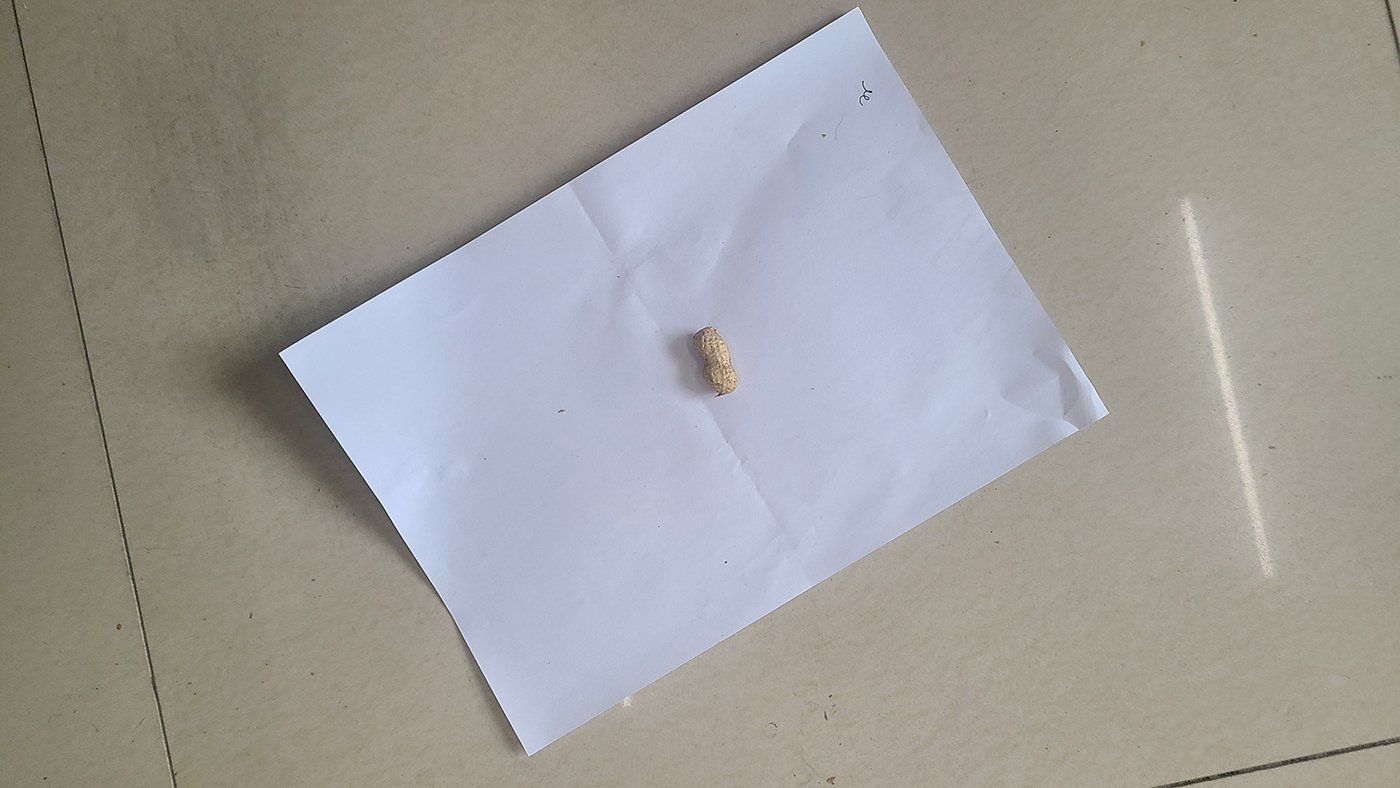h: (693, 326, 739, 395)
